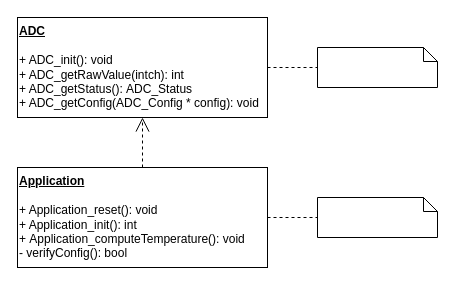
The diagram is 455 pixels wide and 285 high, and some of its shapes have lost their labels. The shapes that lost their labels are listed below. From the top down, each one's box as (x1, y1, x2, y2) in pixels, then its label:
(316, 46, 438, 88): Dependency
(316, 196, 438, 238): Code under test
